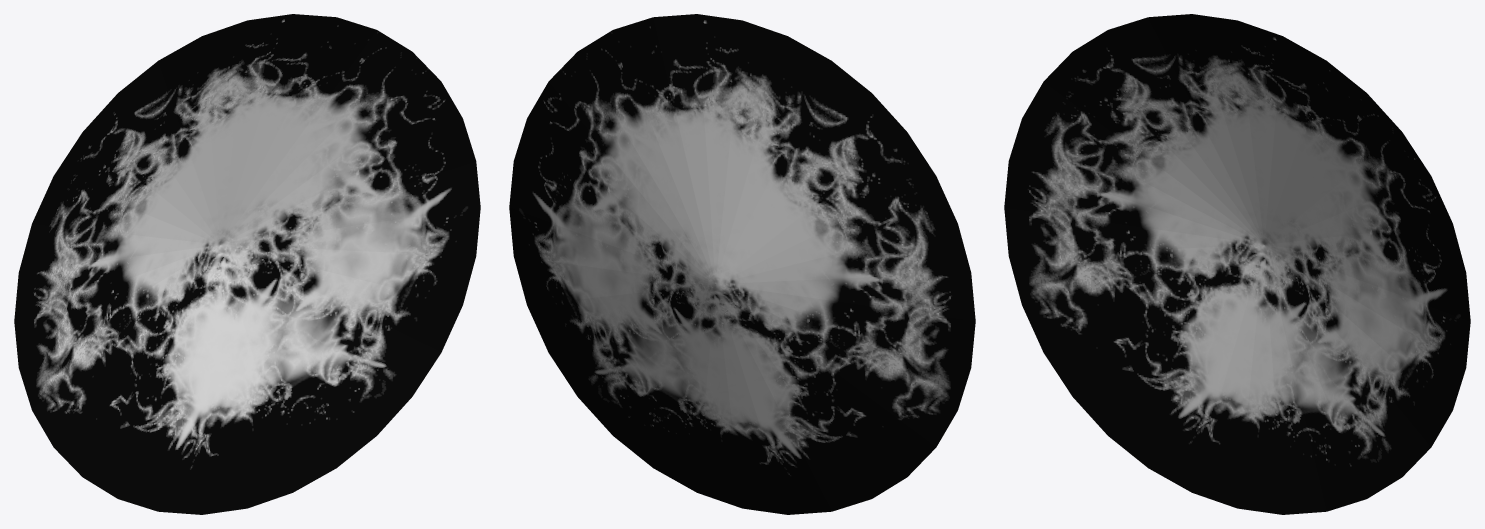
Rendered from vfx-plate-splash.fbx.
3 views of the same model, side by side, from view 1: azimuth 30°, elevation 25°; view 2: azimuth 150°, elevation 25°; view 3: azimuth 330°, elevation 25° (orthographic).
Visible parts, largest first — view 1: vfx-splash-plate; view 2: vfx-splash-plate; view 3: vfx-splash-plate.
Part boxes in pixels (x1,y1,x2,y2): vfx-splash-plate: (14, 14, 480, 514); vfx-splash-plate: (509, 14, 975, 514); vfx-splash-plate: (1004, 14, 1470, 514).
Size of the model in its own units: 27.2 by 27.2 by 2.71.
